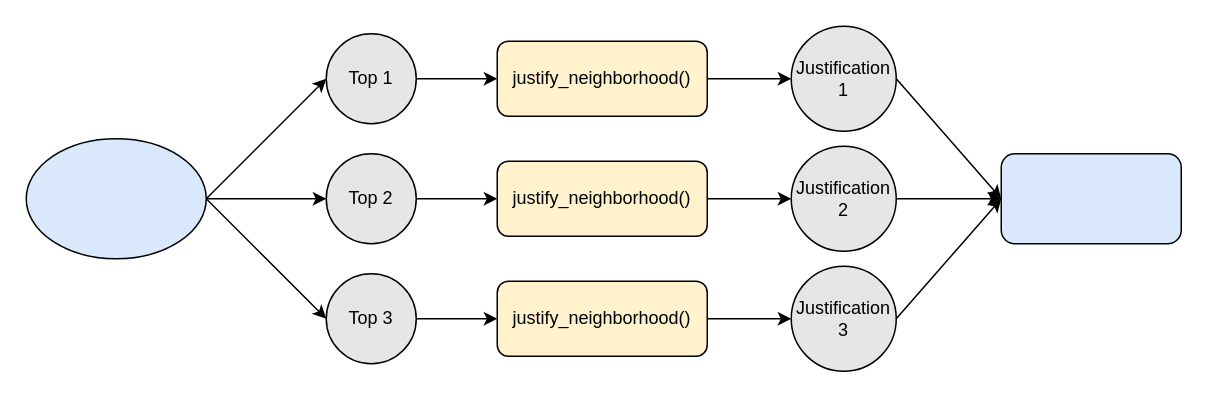
Some shapes in this 1208 by 398 pixel diagram are drawn without their labels. Here are the shapes that lost their labels. From the top down, the box of each, then its label:
(25, 137, 206, 259): Sythetic Category
(1000, 152, 1181, 244): Completion
